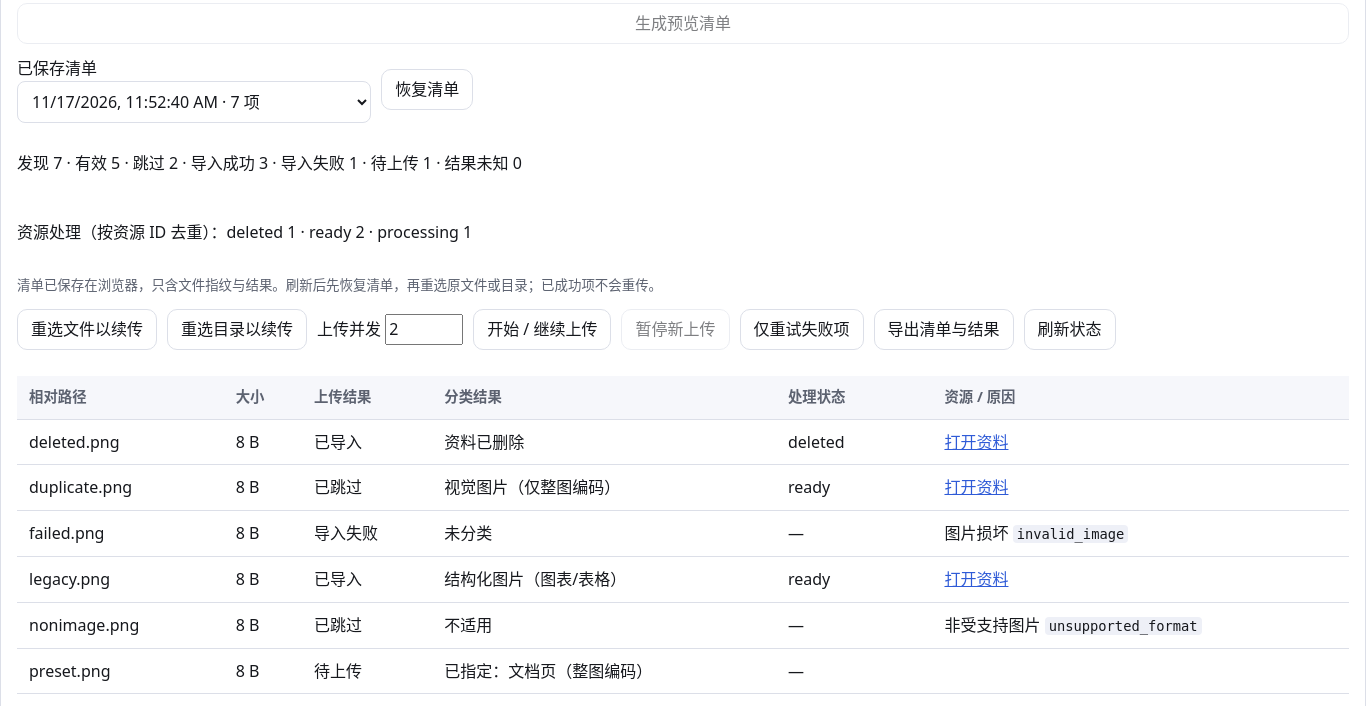
Test: refreshes restored classifications and distinguishes pending, skipped, failed and deleted items
The image size is (1366, 706).
(page scrolled)
Expected: the cell "结构化图片（图表/表格）" is shown, [432,556,776,602]
Expected: the cell "视觉图片（仅整图编码）" is shown, [432,465,776,511]
Click the button "刷新状态" at (1070, 330), box [1024,310,1116,350]
(page scrolled)
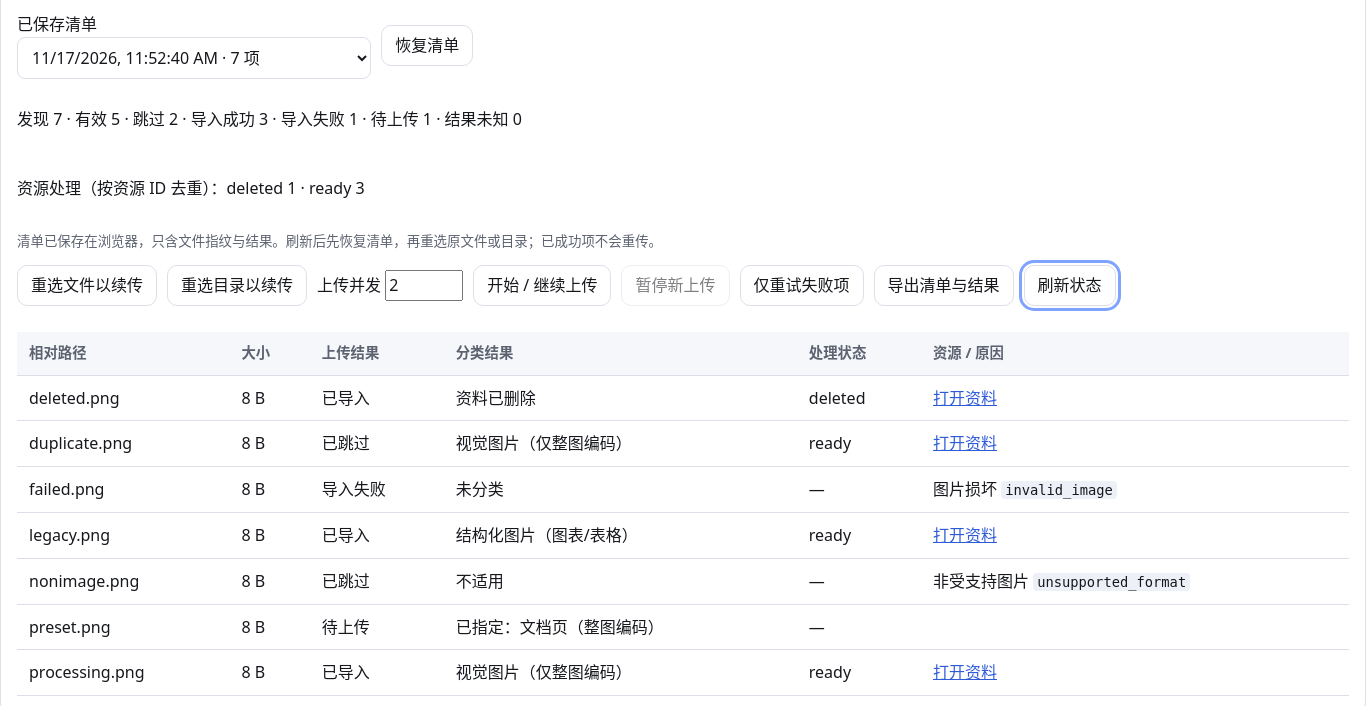
Expected: the cell "视觉图片（仅整图编码）" in the row of "processing.png" is shown, [444,650,797,696]
